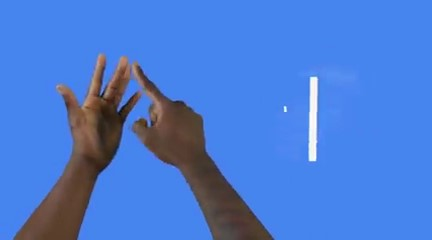I: (49, 50, 208, 172)
